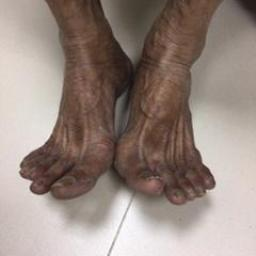Front View -Both Feet-: (13, 4, 228, 221)
